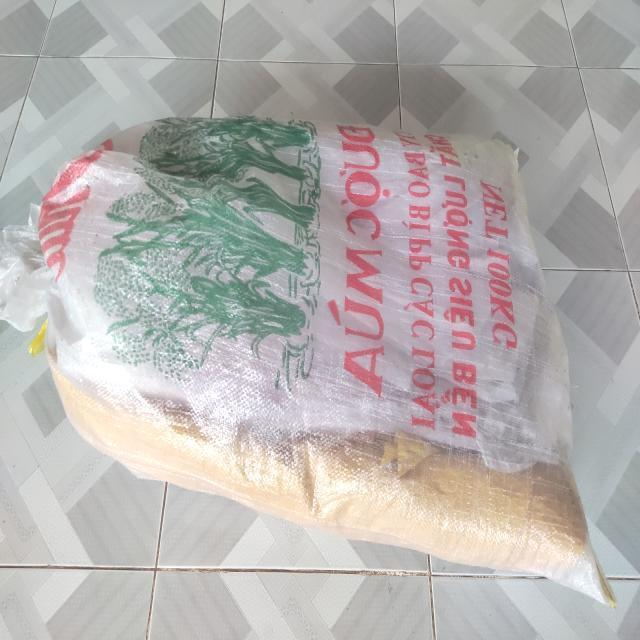gunny_bag: (0, 116, 616, 608)
